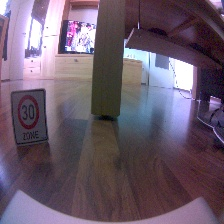dreisiger_zone: (10, 88, 50, 144)
